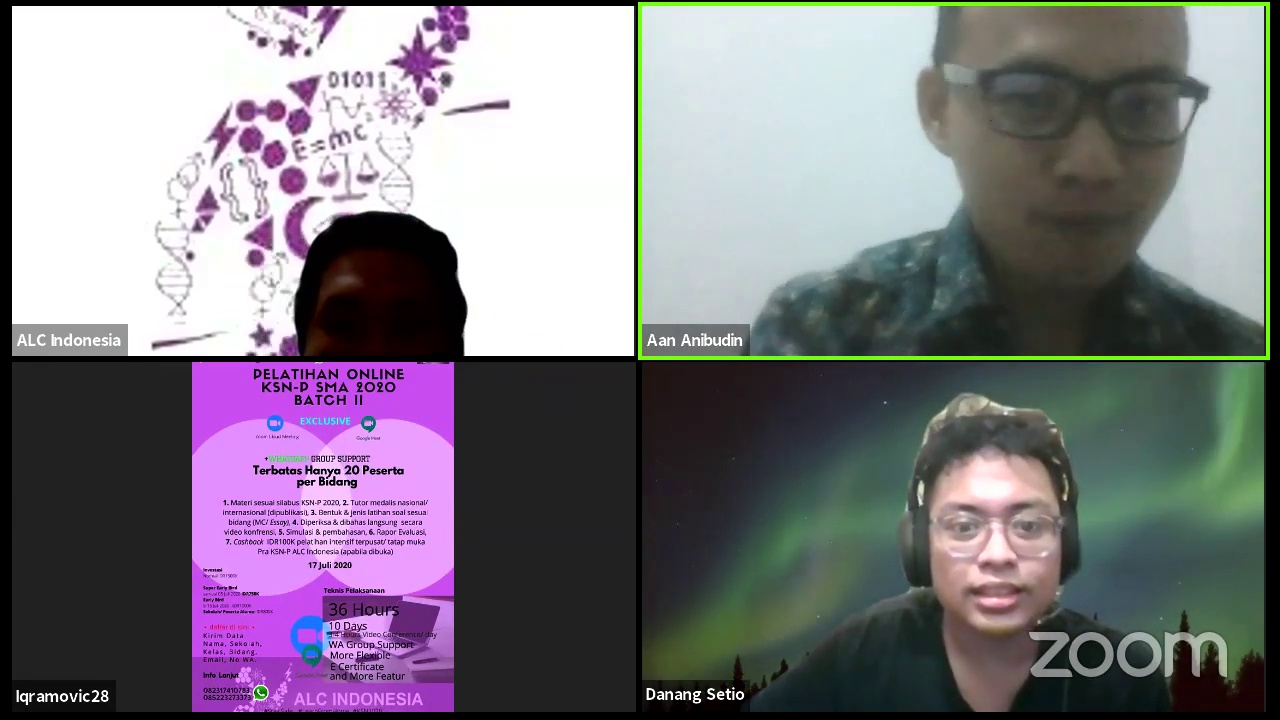Not Distracted: (912, 15, 1203, 273), (895, 423, 1089, 637), (283, 225, 470, 350)
